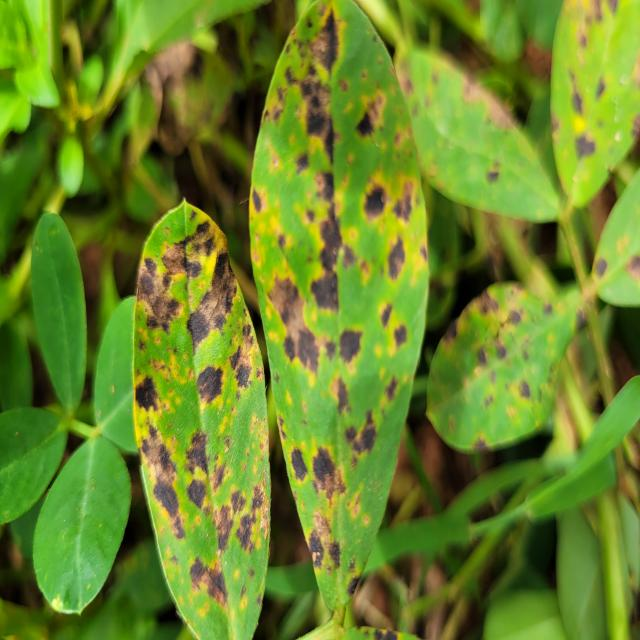Ground nut_healthy: (32, 432, 132, 619), (27, 203, 88, 420)
Ground nut_tikka leaf spot: (250, 0, 427, 607), (132, 196, 269, 640)
